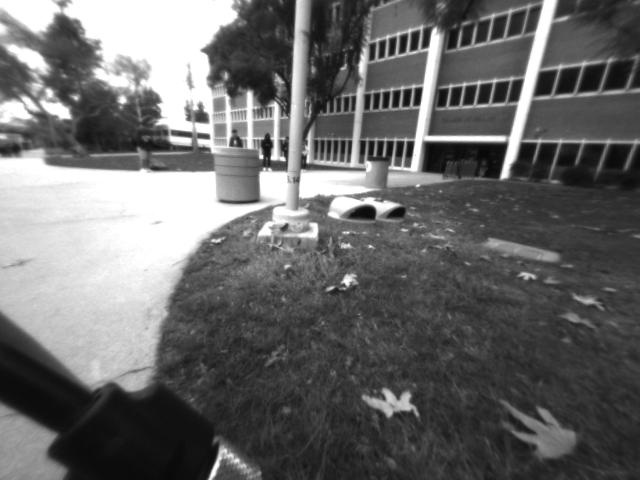trashcan: (207, 136, 268, 208), (360, 152, 393, 193)
